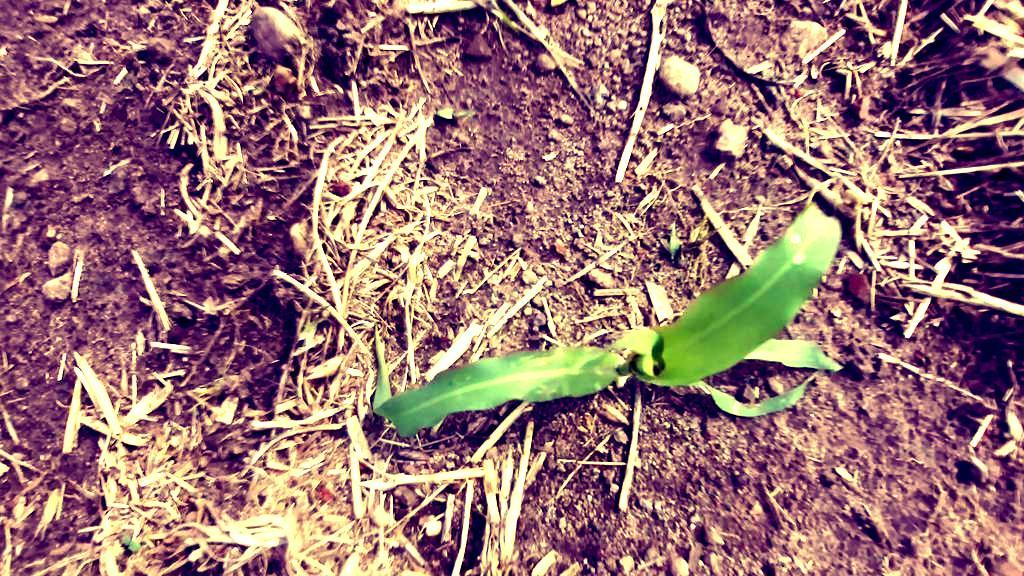BroWeed: (686, 212, 722, 251), (436, 104, 475, 121), (117, 531, 141, 555), (667, 220, 681, 261)
Maize: (350, 194, 887, 519)
